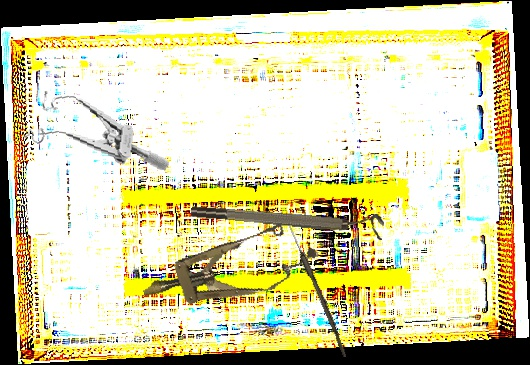Fixation Ring: (190, 194, 385, 241)
Speculum: (133, 208, 325, 326), (21, 89, 177, 171)
Surgical Spoon: (281, 215, 351, 358)
